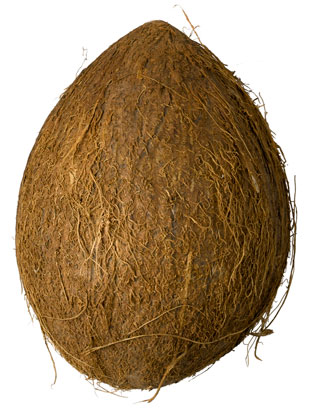coconut: (15, 20, 288, 388)
